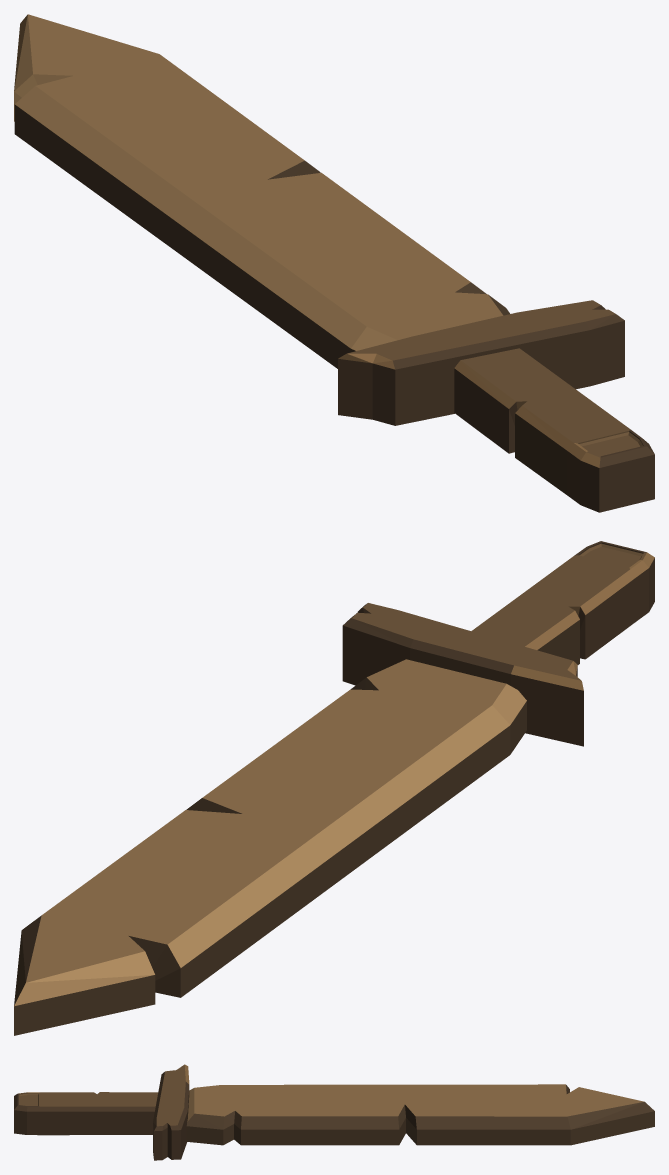
The model's file is wood_sword.fbx.
The picture shows the model from 3 angles, top to bottom: view 1: azimuth 30°, elevation 25°; view 2: azimuth 150°, elevation 25°; view 3: azimuth 270°, elevation 25°; orthographic projection. The views are drawn at different scales.
Visible parts, largest first — view 1: wood_sword; view 2: wood_sword; view 3: wood_sword.
Boxes of the visible parts, x1,y1,x2,y2 form: wood_sword: [14, 14, 654, 512]; wood_sword: [14, 541, 654, 1035]; wood_sword: [14, 1064, 654, 1160].
Bounding box in the file's own units: 0.596 × 0.14 × 2.49.
1 material, 1 textured.
